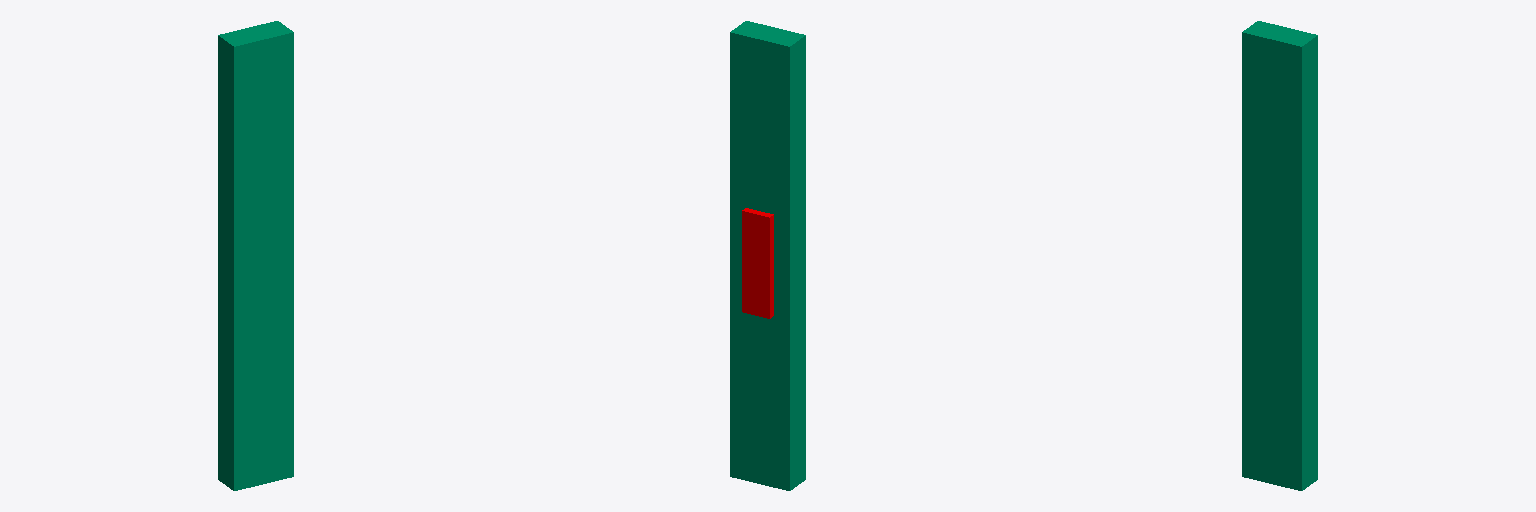
The robot description file, URDF, robot "knife":
<?xml version='1.0' encoding='utf-8'?>
<robot name="knife">
  <link name="base" /><joint name="joint_0" type="fixed"><origin xyz="0 0 0" rpy="0 0 0" /><parent link="base" /><child link="link_0" /></joint><link name="link_1">
    <visual name="link_1">
      <origin xyz="0 0.005978 0" rpy="0 0 0" />
      <geometry>
        <box size="0.009528528432772763 0.00245415889669794 0.03298029704621739" /></geometry>
    <material name="red"><color rgba="1 0 0 1" /></material></visual>
    <collision>
      <origin xyz="0 0.005978 0" rpy="0 0 0" />
      <geometry>
        <box size="0.009528528432772763 0.00245415889669794 0.03298029704621739" /></geometry>
    </collision>
    </link>
  <joint name="joint_1" type="prismatic">
    <origin xyz="0 0 0" />
    <axis xyz="0 0 1" />
    <child link="link_1" />
    <parent link="link_0" />
    <limit lower="-0.029342" upper="0.020658" effort="100.0" velocity="1.0" />
  </joint>
  <link name="link_0">
    <visual name="link_0">
      <origin xyz="0 0 0" />
      <geometry>
        <box size="0.0203831759347036 0.009500856465590292 0.144452122147387" /></geometry>
    </visual>
    <collision>
      <origin xyz="0 0 0" />
      <geometry>
        <box size="0.0203831759347036 0.009500856465590292 0.144452122147387" /></geometry>
    </collision>
    </link>
</robot>

--- Facts derived from the render (not from the file) ---
3 views of the same robot in one strip: view 1: azimuth 30°, elevation 25°; view 2: azimuth 150°, elevation 25°; view 3: azimuth 330°, elevation 25° (orthographic).
Model knife with 3 links and 2 joints (1 prismatic, 1 fixed), rooted at base, posed all joints at 0.
Links seen in each view (by area): view 1: link_0; view 2: link_0, link_1; view 3: link_0.
Link boxes in pixels (<box>): link_0: <box>218,21,293,490</box>; link_0: <box>730,21,805,490</box>; link_1: <box>742,208,773,318</box>; link_0: <box>1242,21,1317,490</box>.
Size in the robot's own frame: 0.0204 by 0.012 by 0.1445 metres.
Geometry: primitives only (box / cylinder / sphere), no mesh files.
